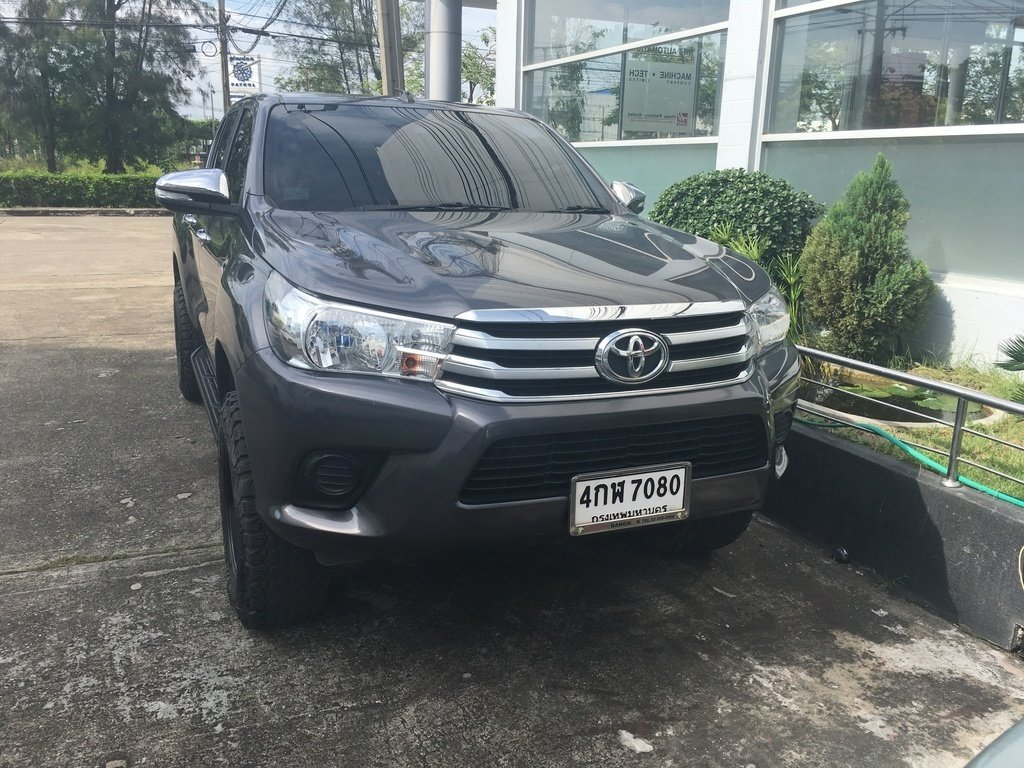pickup: (154, 90, 800, 623)
